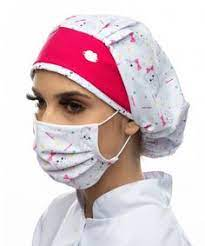with_mask_and_cap: (31, 15, 140, 189)
